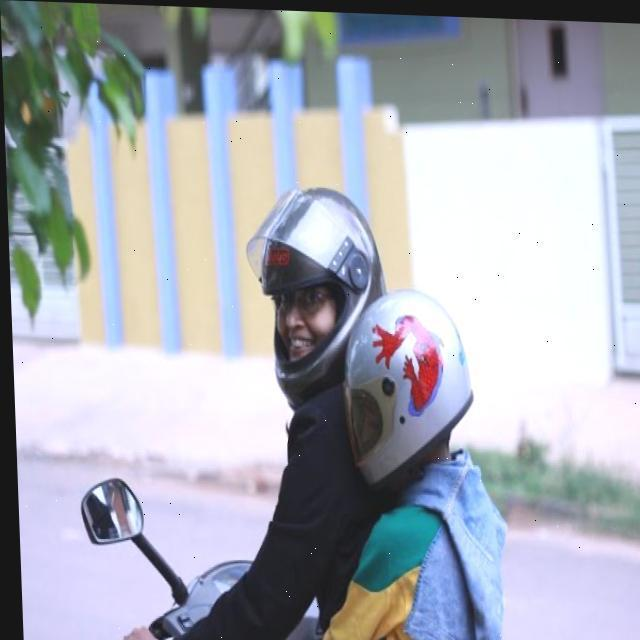Helmet: (242, 168, 394, 410)
